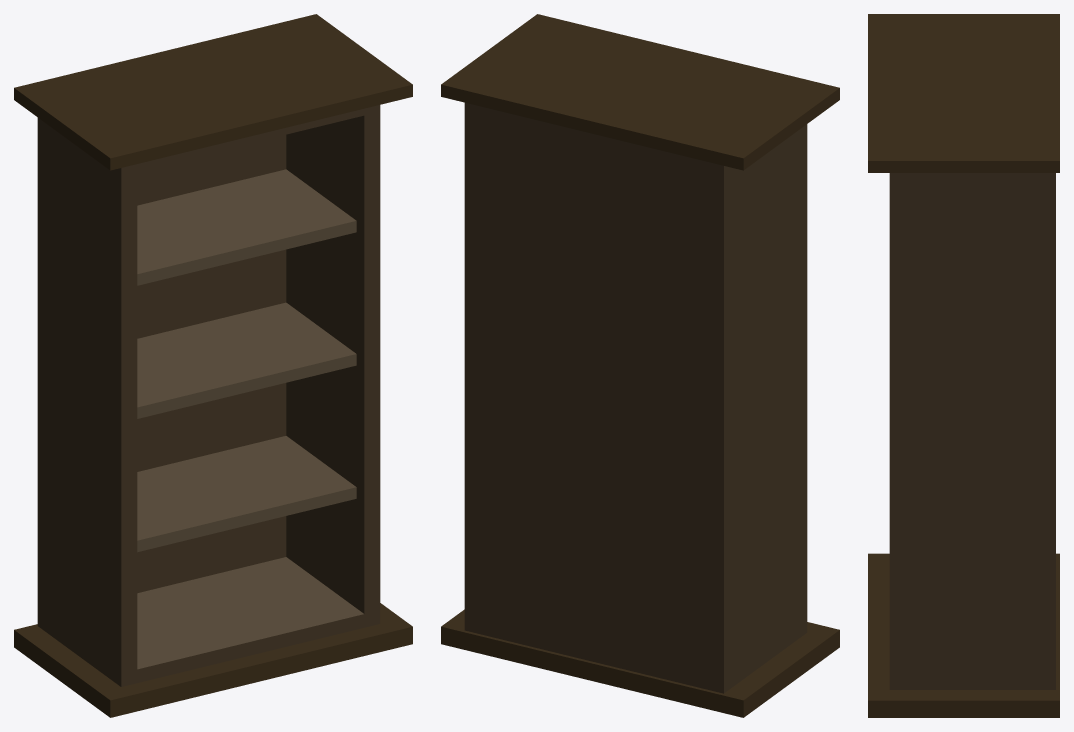
File: bookshelf.glb
3 renders of one model, left to right at view 1: azimuth 30°, elevation 25°; view 2: azimuth 150°, elevation 25°; view 3: azimuth 270°, elevation 25°, orthographic.
Visible parts, largest first — view 1: Bookshelf; view 2: Bookshelf; view 3: Bookshelf.
Part boxes in pixels (box(x1,y1,x2,y2)): Bookshelf: box(14, 14, 412, 717); Bookshelf: box(441, 14, 839, 717); Bookshelf: box(868, 14, 1059, 717).
Size of the model in its own units: 1.16 by 2.05 by 0.6397.
1 material, 1 textured.
